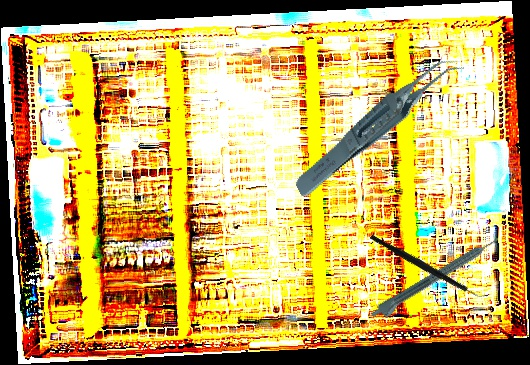Chopper: (369, 202, 490, 330)
Handpiece: (369, 234, 504, 325)
Tissue Forceps: (275, 53, 485, 200)
